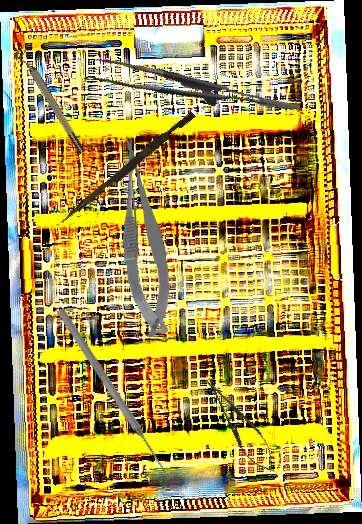Fixation Ring: (12, 45, 88, 158)
Micro Scissor: (115, 132, 175, 340)
Needle Holder: (197, 371, 283, 479)
Pusher: (54, 306, 172, 478), (59, 108, 196, 229)
Tissue Forceps: (89, 37, 301, 146)
